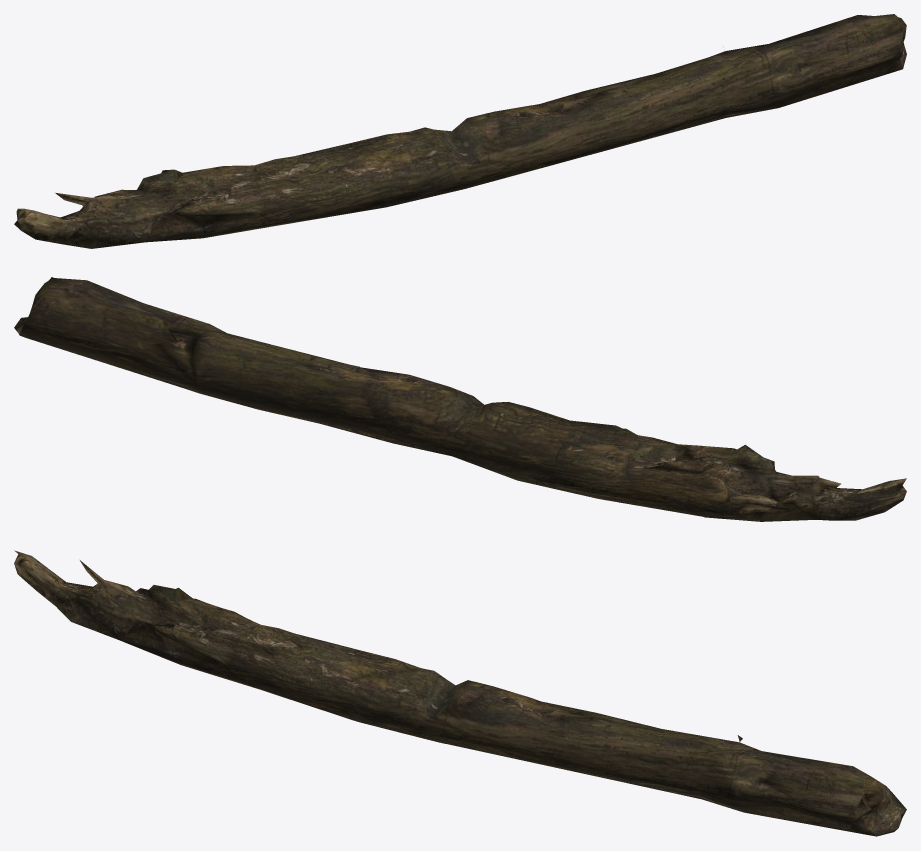
Rendered from dead_tree_trunk_lod2.glb.
3 views of the same model, one above another, from view 1: azimuth 30°, elevation 25°; view 2: azimuth 150°, elevation 25°; view 3: azimuth 330°, elevation 25° (orthographic).
Parts seen in each view (by area): view 1: dead_tree_trunk; view 2: dead_tree_trunk; view 3: dead_tree_trunk.
Part boxes in pixels (left/top/right/bottom): dead_tree_trunk: left=14, top=14, right=906, bottom=248; dead_tree_trunk: left=14, top=277, right=906, bottom=521; dead_tree_trunk: left=14, top=550, right=906, bottom=836.
Size of the model in its own units: 3.04 by 0.2847 by 0.266.
1 material, 1 textured.
